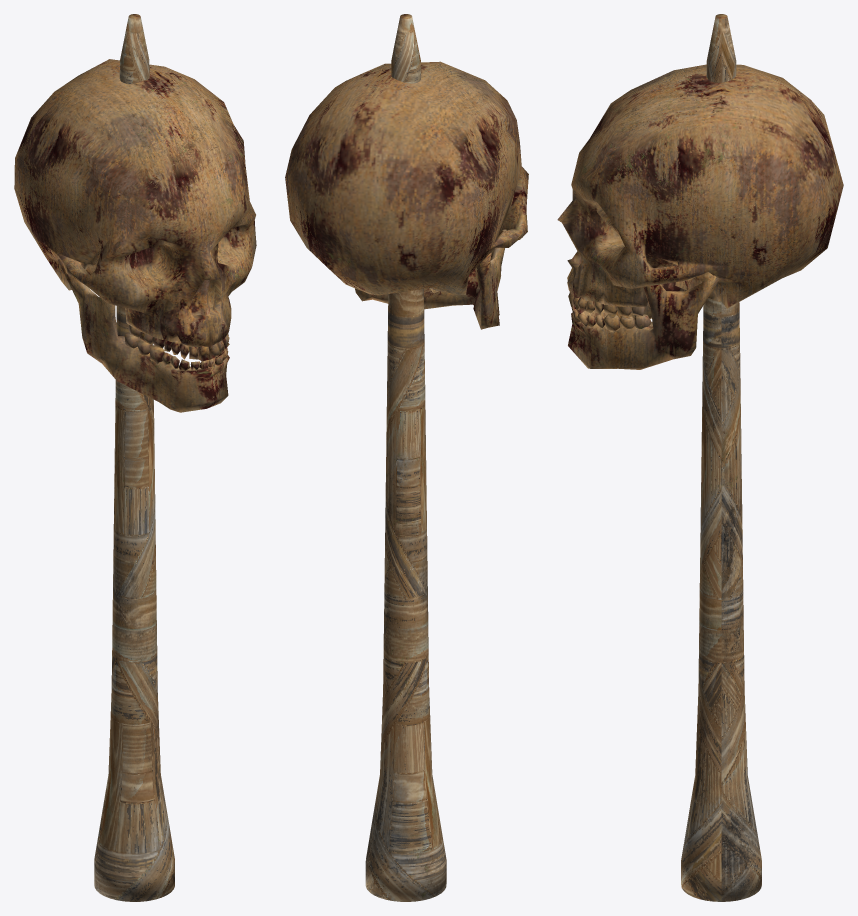
The model's file is monument.glb.
The picture shows the model from 3 angles, left to right: view 1: azimuth 30°, elevation 25°; view 2: azimuth 150°, elevation 25°; view 3: azimuth 270°, elevation 25°; orthographic projection.
Parts seen in each view (by area): view 1: Monument; view 2: Monument; view 3: Monument.
Boxes of the visible parts, x1,y1,x2,y2 form: Monument: (14, 14, 256, 901); Monument: (285, 14, 528, 901); Monument: (557, 14, 843, 901).
Bounding box in the file's own units: 0.1501 × 0.66 × 0.1974.
1 material, 1 textured.
